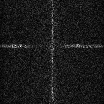wifi: (1, 44, 104, 48)
